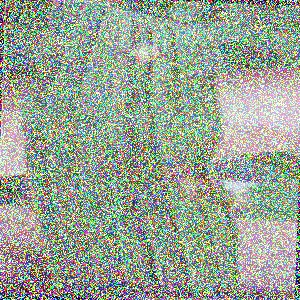Brown_Spot: (142, 137, 216, 210), (109, 29, 175, 80)
